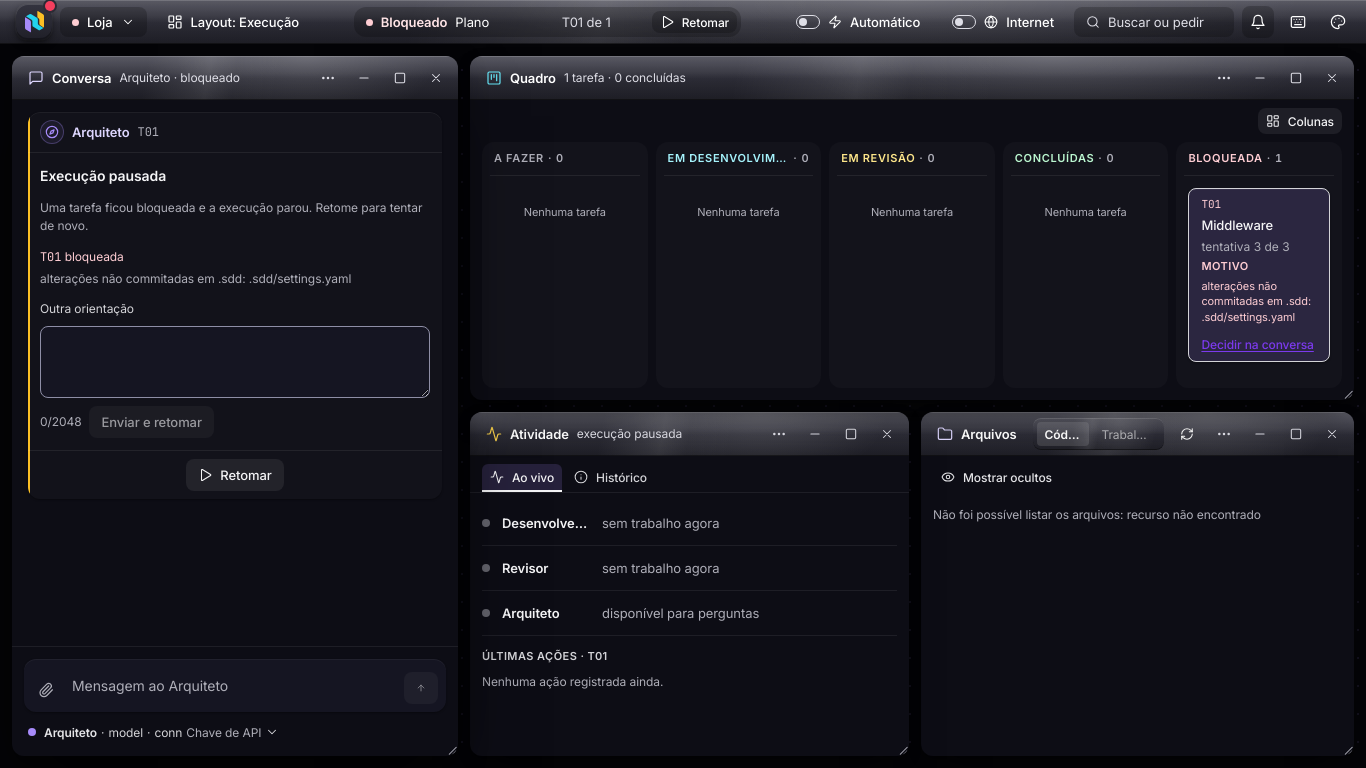
Test: Execução pausada na Conversa › 409 com motivo conhecido mostra a mensagem fixa; o cartão continua
This screenshot has width=1366, height=768.
Click the button "Retomar" below "2048" at (235, 476), box [186,460,284,492]
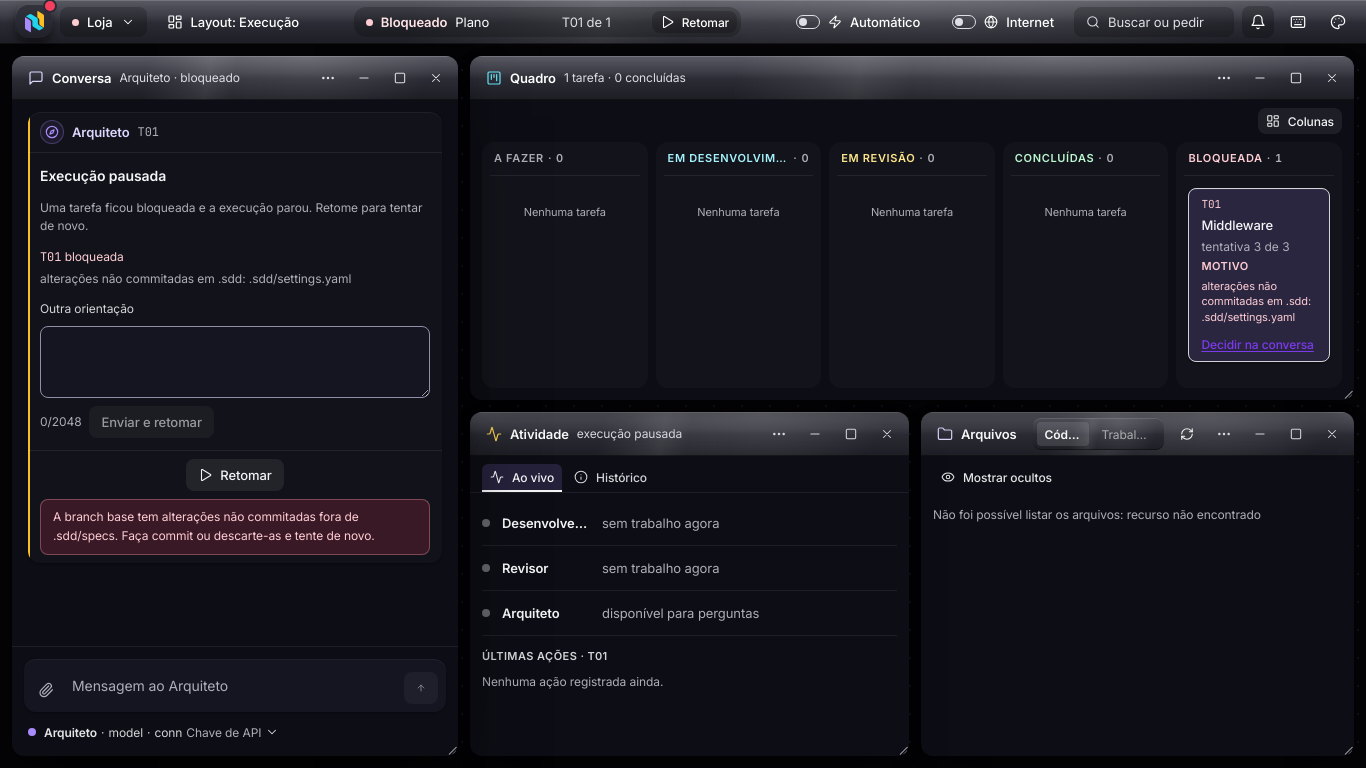
Check: the heading "Execução pausada" is shown, box [40,167,166,184]
Check: the 3rd message shows "A branch base tem alterações não commitadas fora de .sdd/specs. Faça commit ou descarte-as e tente de novo.", box [53,510,375,543]
